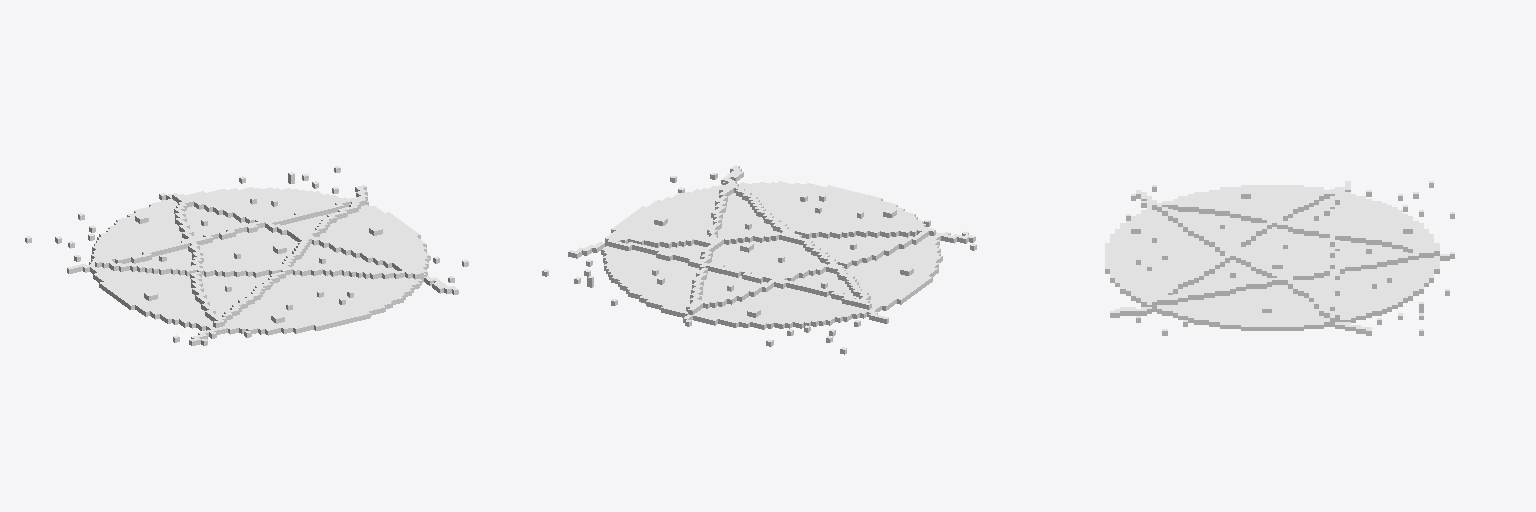
File: alter.obj
3 renders of one model, left to right at view 1: azimuth 30°, elevation 25°; view 2: azimuth 150°, elevation 25°; view 3: azimuth 270°, elevation 25°, orthographic.
Parts seen in each view (by area): view 1: object 1; view 2: object 1; view 3: object 1.
Part boxes in pixels (left/top/right/bottom): object 1: left=25, top=166, right=468, bottom=345; object 1: left=542, top=165, right=976, bottom=354; object 1: left=1105, top=181, right=1454, bottom=335.
Bounding box in the file's own units: 6.8 × 0.2 × 6.7.